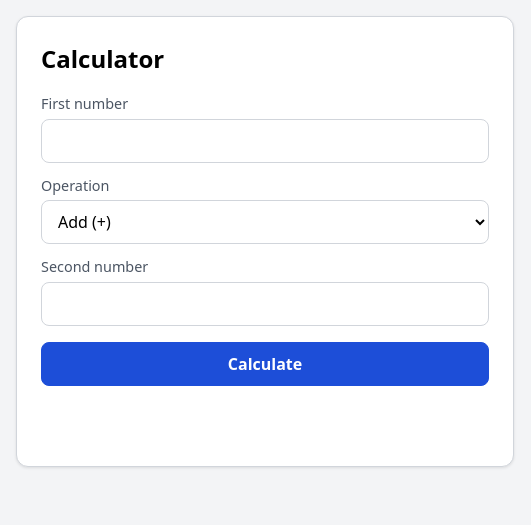
Scenario: shows a user-facing message for API error NON_FINITE_RESULT
The width and height of the screenshot is (531, 525).
In the field labelled "First number": [265, 141] box [41,119,489,163], type "1"
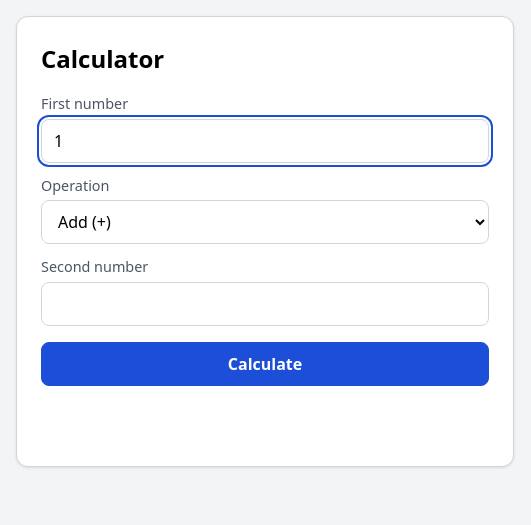
In the field labelled "Second number": [265, 304] box [41,282,489,326], type "0"
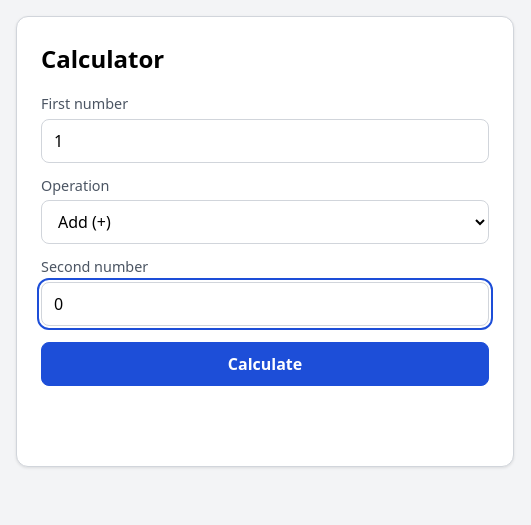
Click the button "Calculate": [265, 364] box [41,342,489,386]
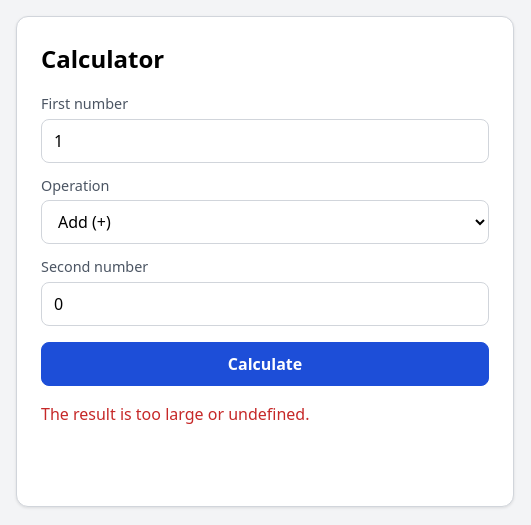
Expected: the element named "Result" is empty, [41,442,489,482]
Expected: the message reads "The result is too large or undefined.", [41,403,310,425]
